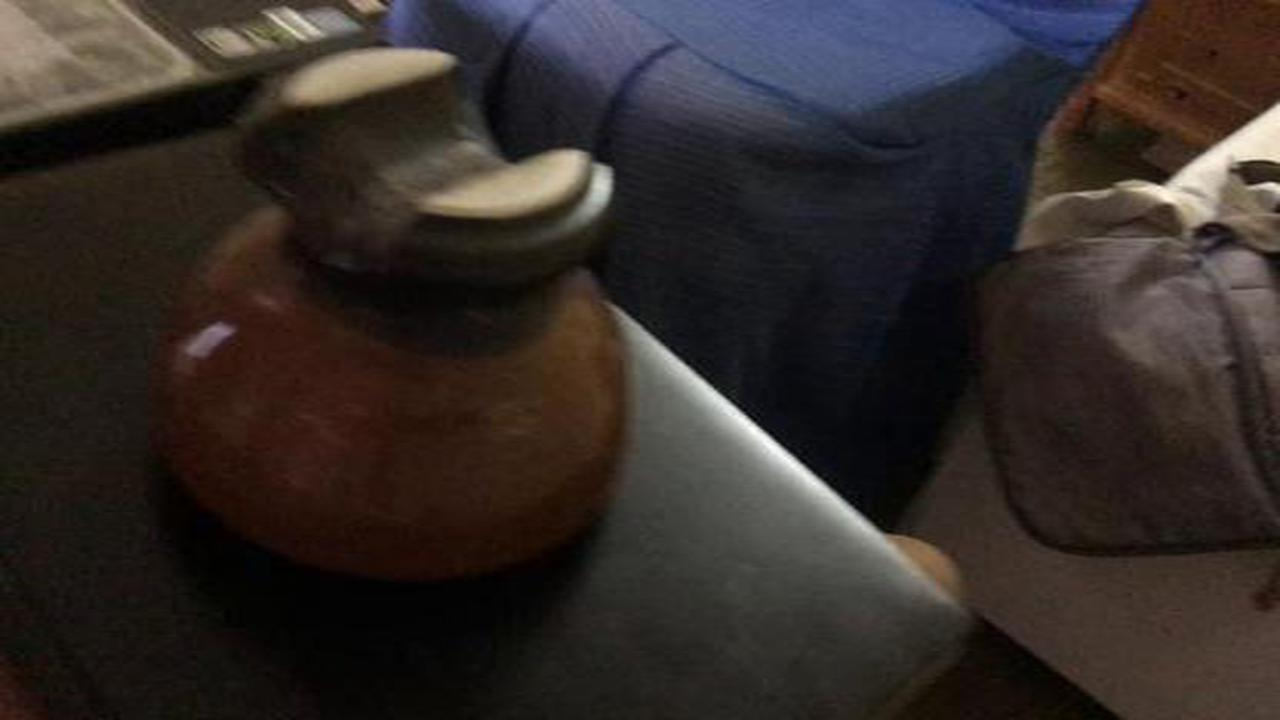insulator_pin: (142, 35, 637, 603)
